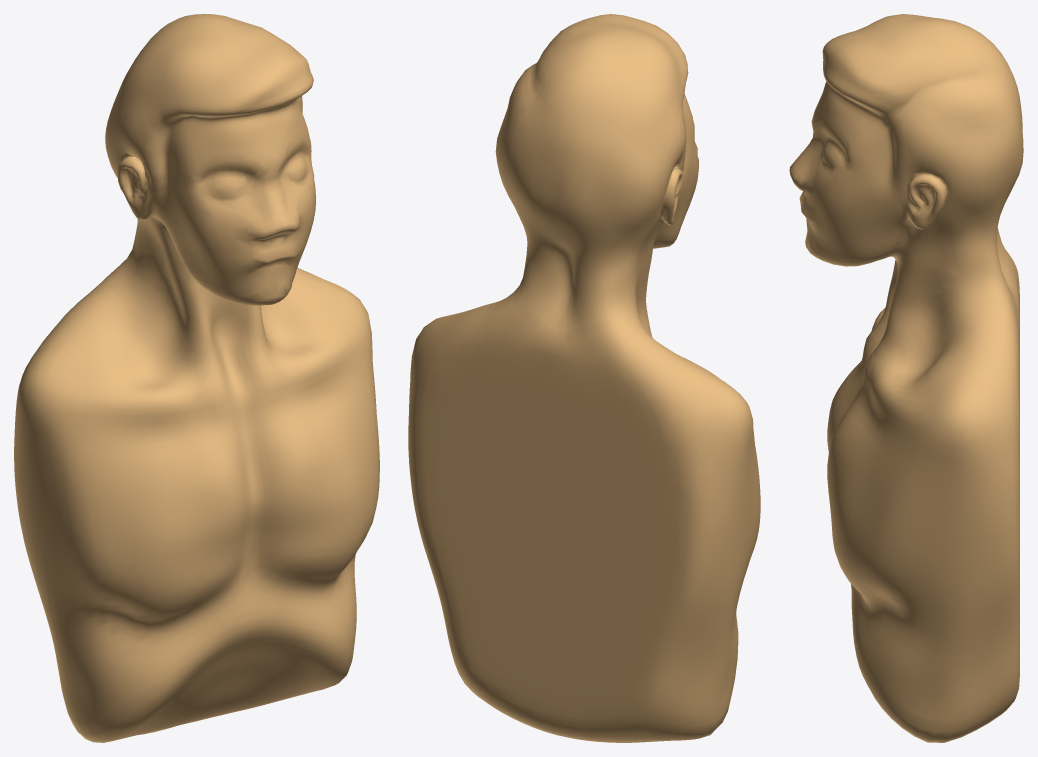
The model's file is uploads_files_3742931_CPR.fbx.
The picture shows the model from 3 angles, left to right: view 1: azimuth 30°, elevation 25°; view 2: azimuth 150°, elevation 25°; view 3: azimuth 270°, elevation 25°; orthographic projection. The views are drawn at different scales.
Parts seen in each view (by area): view 1: _cpr1; view 2: _cpr1; view 3: _cpr1.
Part boxes in pixels (bbox=[...]): _cpr1: bbox=[14, 14, 379, 742]; _cpr1: bbox=[408, 14, 760, 742]; _cpr1: bbox=[789, 14, 1023, 742].
Bounding box in the file's own units: 803 × 1574 × 496.
